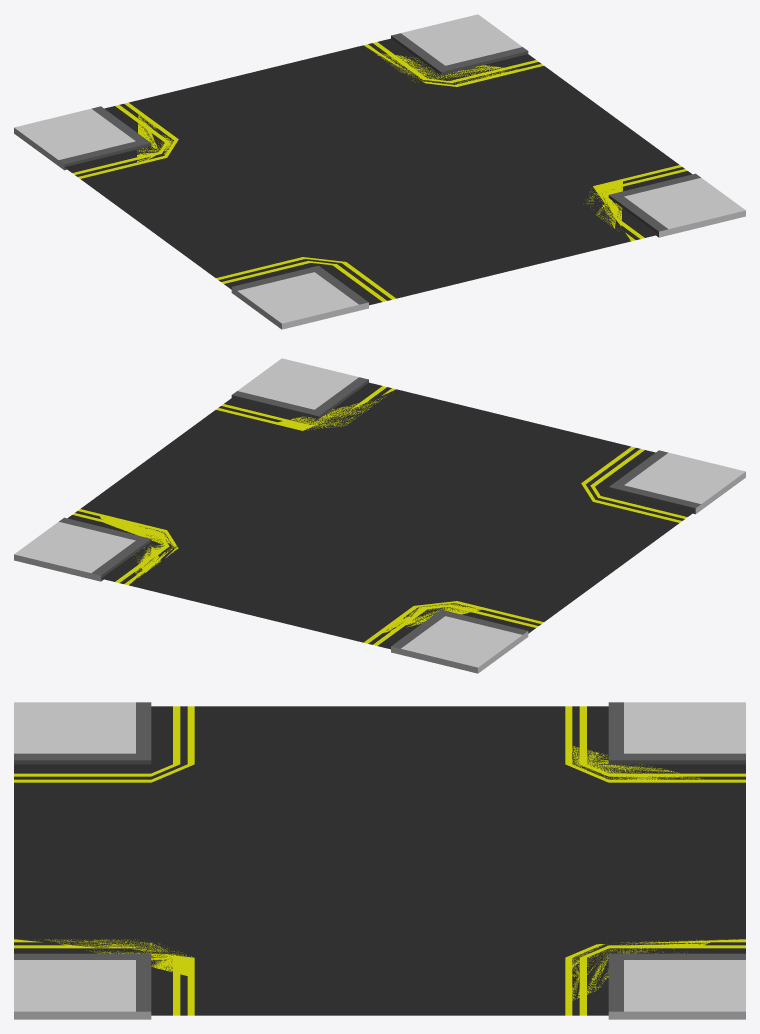
The model's file is m_e_s_road_4_intersection.fbx.
3 views of the same model, one above another, from view 1: azimuth 30°, elevation 25°; view 2: azimuth 150°, elevation 25°; view 3: azimuth 270°, elevation 25° (orthographic). The views are drawn at different scales.
Visible parts, largest first — view 1: Cube.004, Cube.001, Cube.000, Cube.003, Cube.002; view 2: Cube.004, Cube.003, Cube.002, Cube.001, Cube.000; view 3: Cube.004, Cube.002, Cube.000, Cube.003, Cube.001.
Boxes of the visible parts, x1,y1,x2,y2 form: Cube.004: (64,38,692,305); Cube.001: (231,265,368,329); Cube.000: (608,173,745,237); Cube.003: (14,106,151,170); Cube.002: (391,14,528,75); Cube.004: (67,382,695,649); Cube.003: (391,609,528,673); Cube.002: (14,517,151,581); Cube.001: (608,450,745,514); Cube.000: (231,358,368,419); Cube.004: (14,706,745,1015); Cube.002: (608,953,745,1019); Cube.000: (14,953,151,1019); Cube.003: (608,702,745,764); Cube.001: (14,702,151,764).
Size of the model in its own units: 1600 by 20 by 1600.
